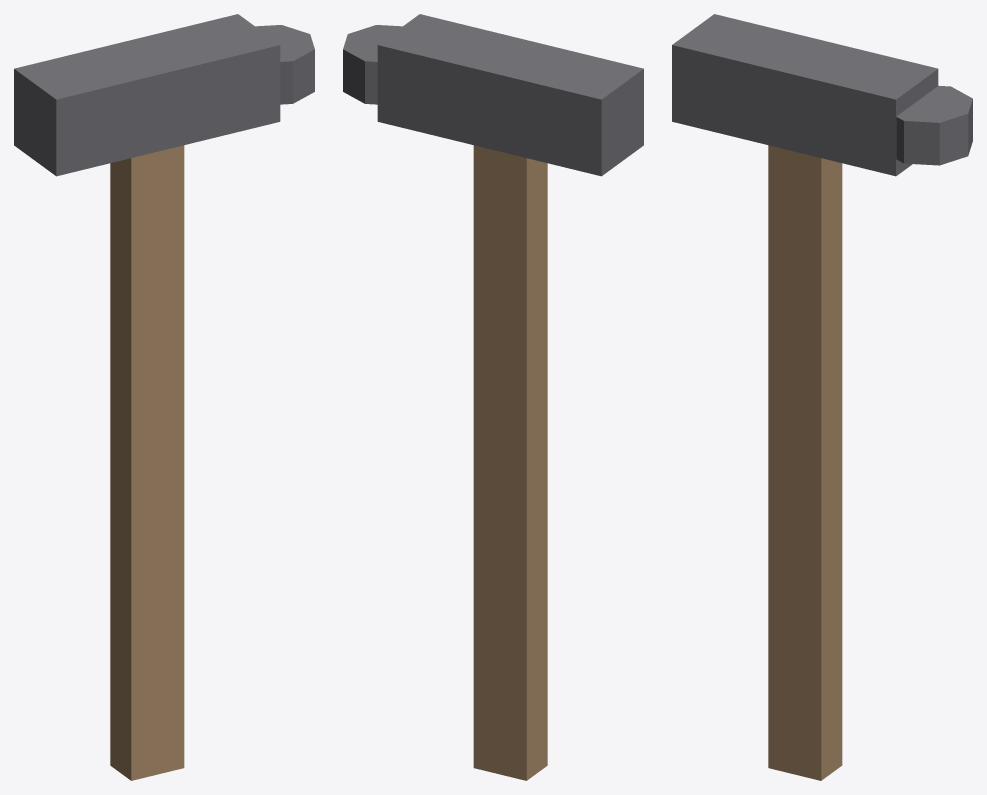
File: prop-hammer-st1.fbx
3 renders of one model, left to right at view 1: azimuth 30°, elevation 25°; view 2: azimuth 150°, elevation 25°; view 3: azimuth 330°, elevation 25°, orthographic.
Parts seen in each view (by area): view 1: prop-hammer-st1; view 2: prop-hammer-st1; view 3: prop-hammer-st1.
Boxes of the visible parts, left/top/right/bottom form: prop-hammer-st1: left=14, top=14, right=314, bottom=780; prop-hammer-st1: left=343, top=14, right=643, bottom=780; prop-hammer-st1: left=672, top=14, right=972, bottom=780.
Bounding box in the file's own units: 13.5 × 33.3 × 4.
